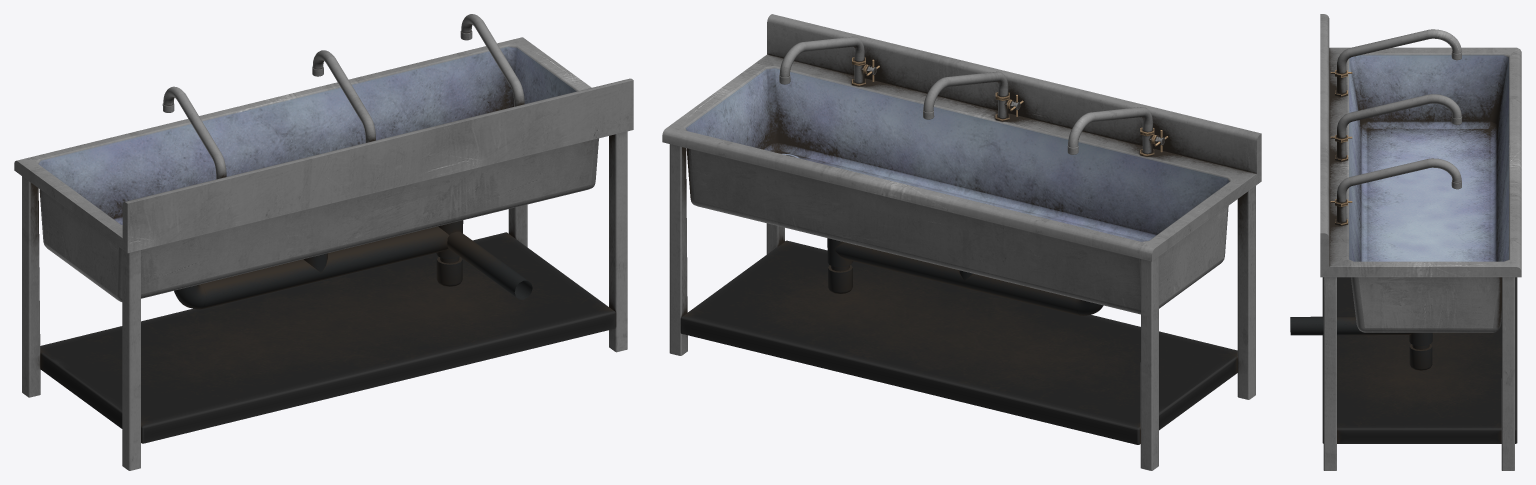
The model's file is sink_mtal_-_18mb.glb.
3 renders of one model, left to right at view 1: azimuth 30°, elevation 25°; view 2: azimuth 150°, elevation 25°; view 3: azimuth 270°, elevation 25°, orthographic. The views are drawn at different scales.
Visible parts, largest first — view 1: Sweep; view 2: Sweep; view 3: Sweep.
Boxes of the visible parts, x1=… form: Sweep: x1=14, y1=14, x2=633, y2=470; Sweep: x1=662, y1=14, x2=1261, y2=470; Sweep: x1=1290, y1=14, x2=1521, y2=470.
Bounding box in the file's own units: 2.22 × 1.29 × 0.987.
1 material, 1 textured.
